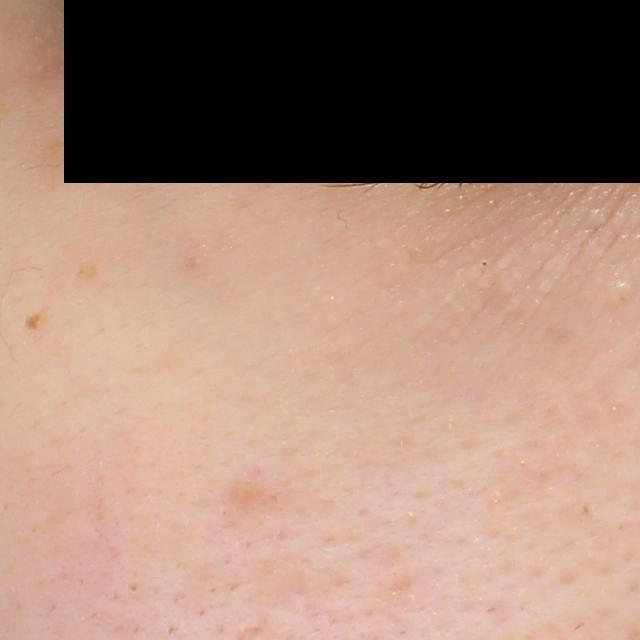comedo: (479, 257, 492, 270)
melasma: (36, 136, 90, 180), (22, 306, 51, 334)
